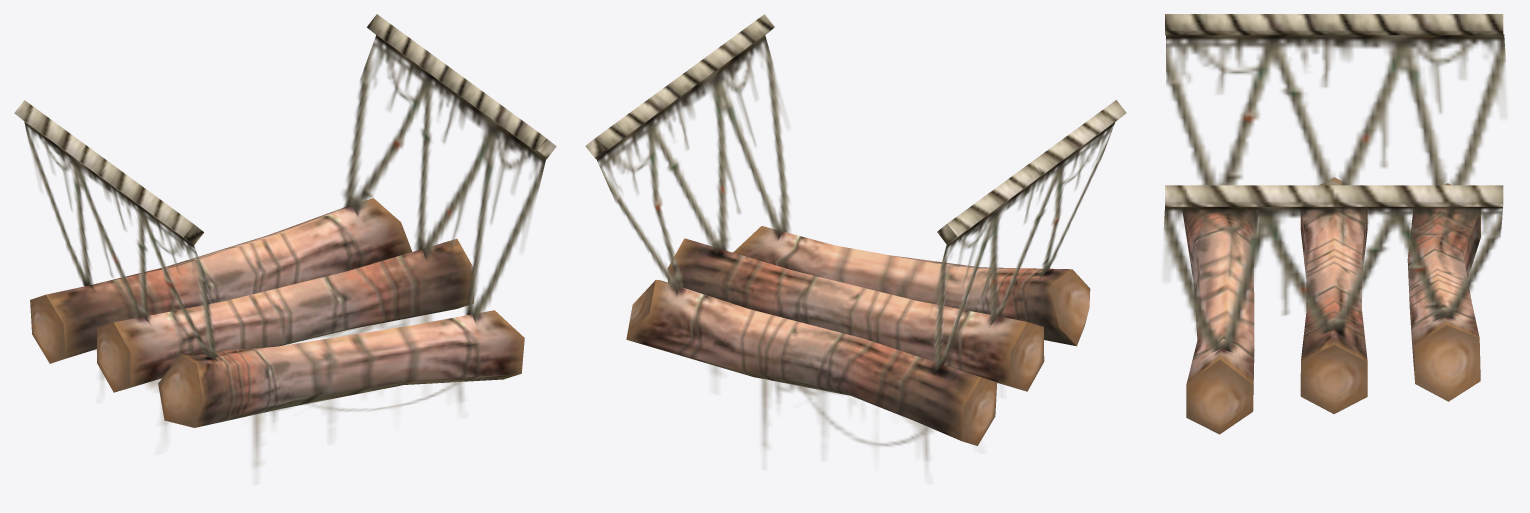
The picture shows the model from 3 angles, left to right: view 1: azimuth 30°, elevation 25°; view 2: azimuth 150°, elevation 25°; view 3: azimuth 270°, elevation 25°; orthographic projection.
Parts seen in each view (by area): view 1: objmid; view 2: objmid; view 3: objmid.
Part boxes in pixels (<box>): objmid: <box>14,14,556,468</box>; objmid: <box>585,14,1126,462</box>; objmid: <box>1163,14,1505,434</box>.
Bounding box in the file's own units: 257 × 214 × 213.
1 material, 1 textured.
